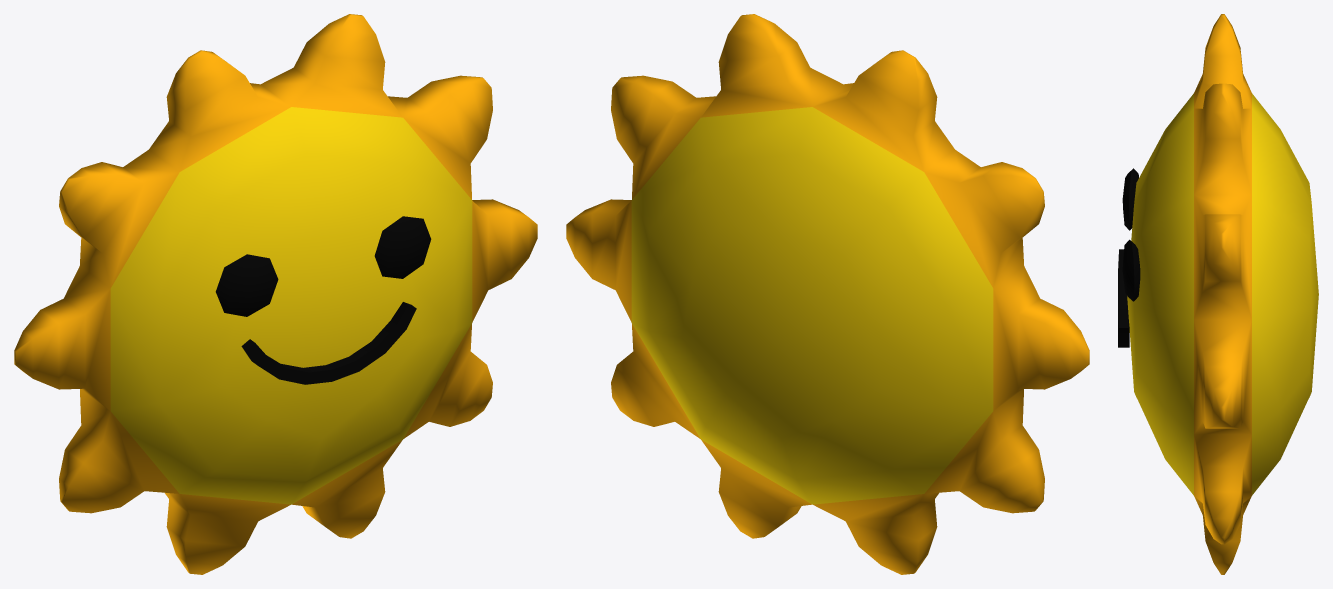
The model's file is sun.fbx.
The picture shows the model from 3 angles, left to right: view 1: azimuth 30°, elevation 25°; view 2: azimuth 150°, elevation 25°; view 3: azimuth 270°, elevation 25°; orthographic projection. The views are drawn at different scales.
Visible parts, largest first — view 1: Empty_Mesh; view 2: Empty_Mesh; view 3: Empty_Mesh.
Part boxes in pixels (left/top/right/bottom): Empty_Mesh: left=14, top=14, right=537, bottom=574; Empty_Mesh: left=566, top=14, right=1089, bottom=574; Empty_Mesh: left=1118, top=14, right=1318, bottom=574.
Bounding box in the file's own units: 60.65 × 58.16 × 21.62.
